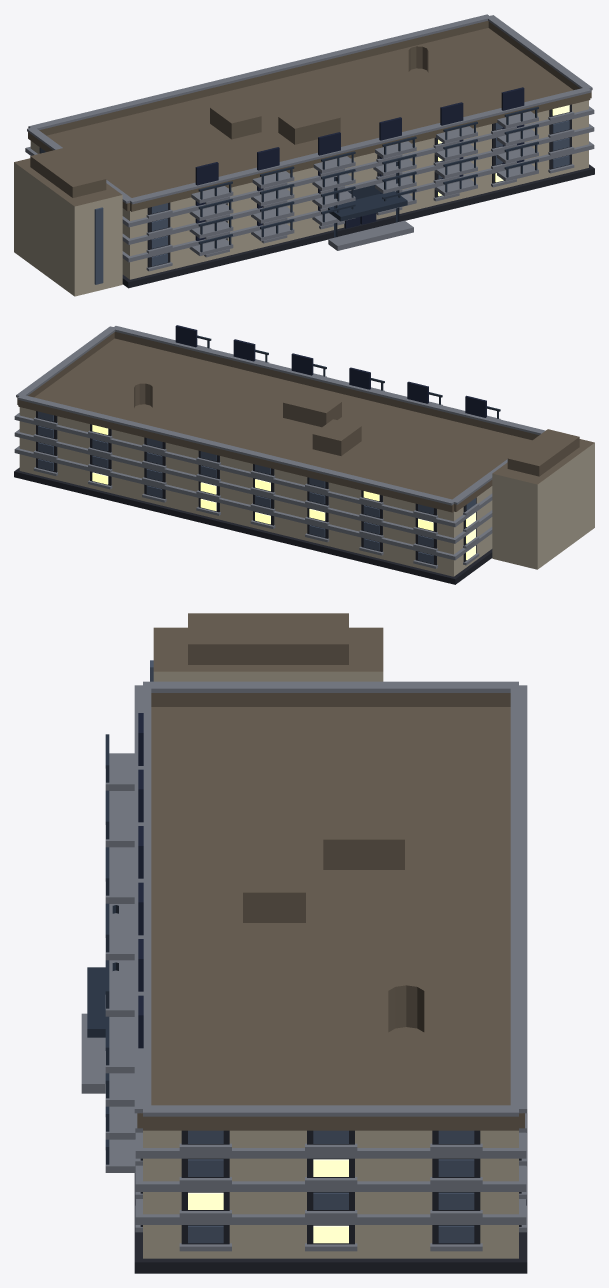
Rendered from girls-high.glb.
3 views of the same model, one above another, from view 1: azimuth 30°, elevation 25°; view 2: azimuth 150°, elevation 25°; view 3: azimuth 270°, elevation 25° (orthographic). The views are drawn at different scales.
Bounding box in the file's own units: 108 × 20.5 × 42.7.
